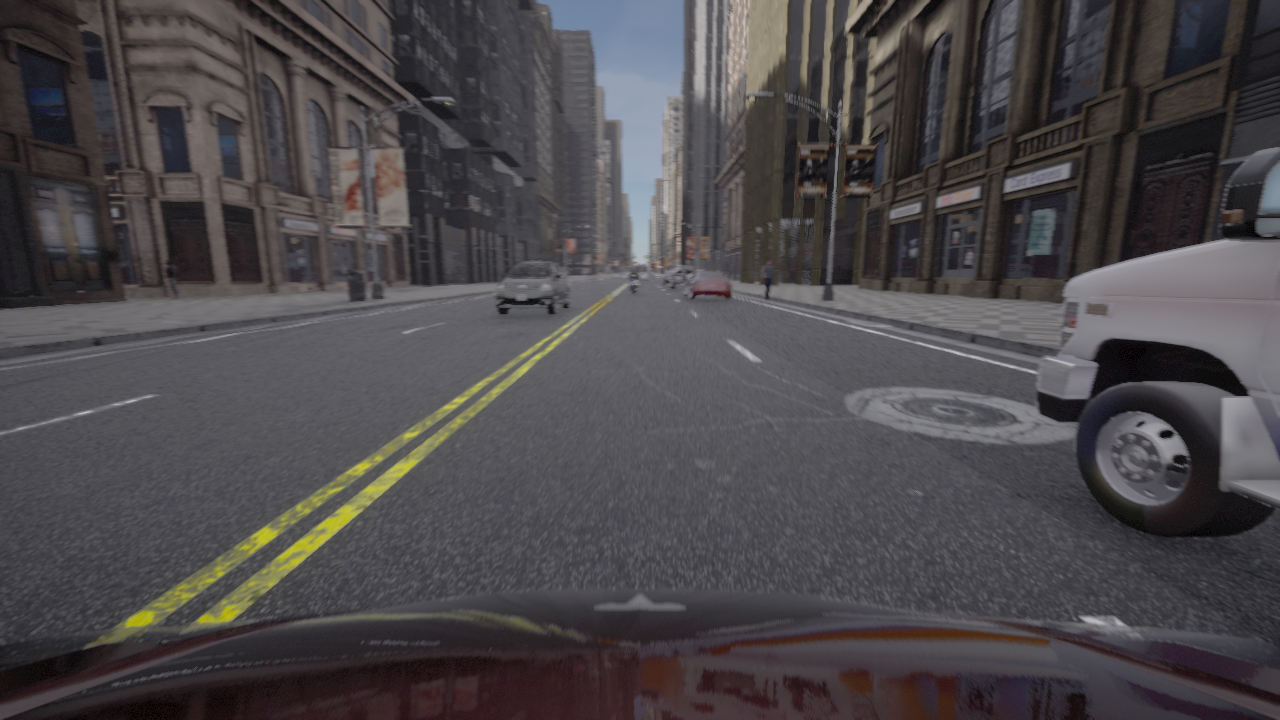cyclist: (0, 588, 1279, 719), (1036, 147, 1279, 536), (495, 261, 570, 314), (683, 270, 731, 298), (669, 265, 694, 289), (634, 262, 649, 282), (627, 274, 640, 294), (662, 270, 671, 284)
pedestrian: (761, 258, 774, 300), (166, 259, 179, 297)
